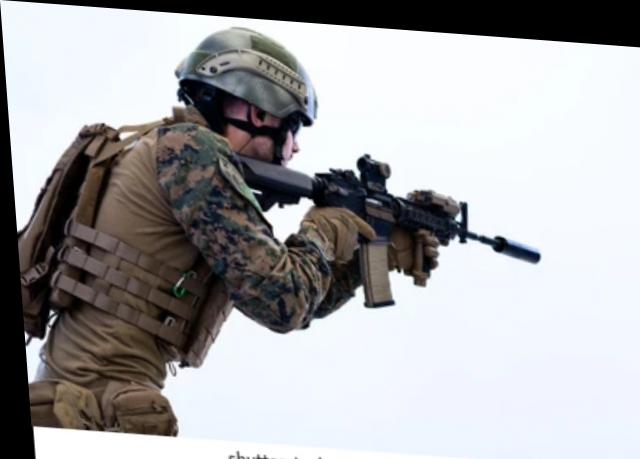other: (48, 17, 322, 347)
